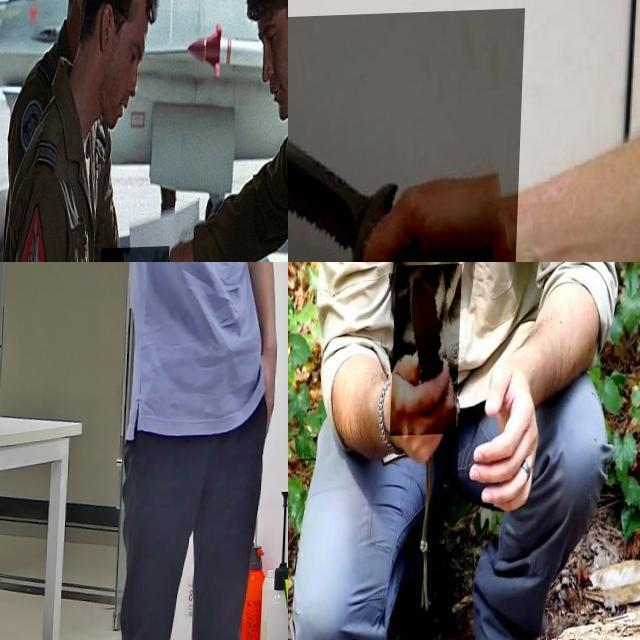-: (288, 11, 526, 262), (393, 267, 463, 438)
gun-knife-thesis - v11 Yolov5 augmented: (185, 262, 288, 301)
